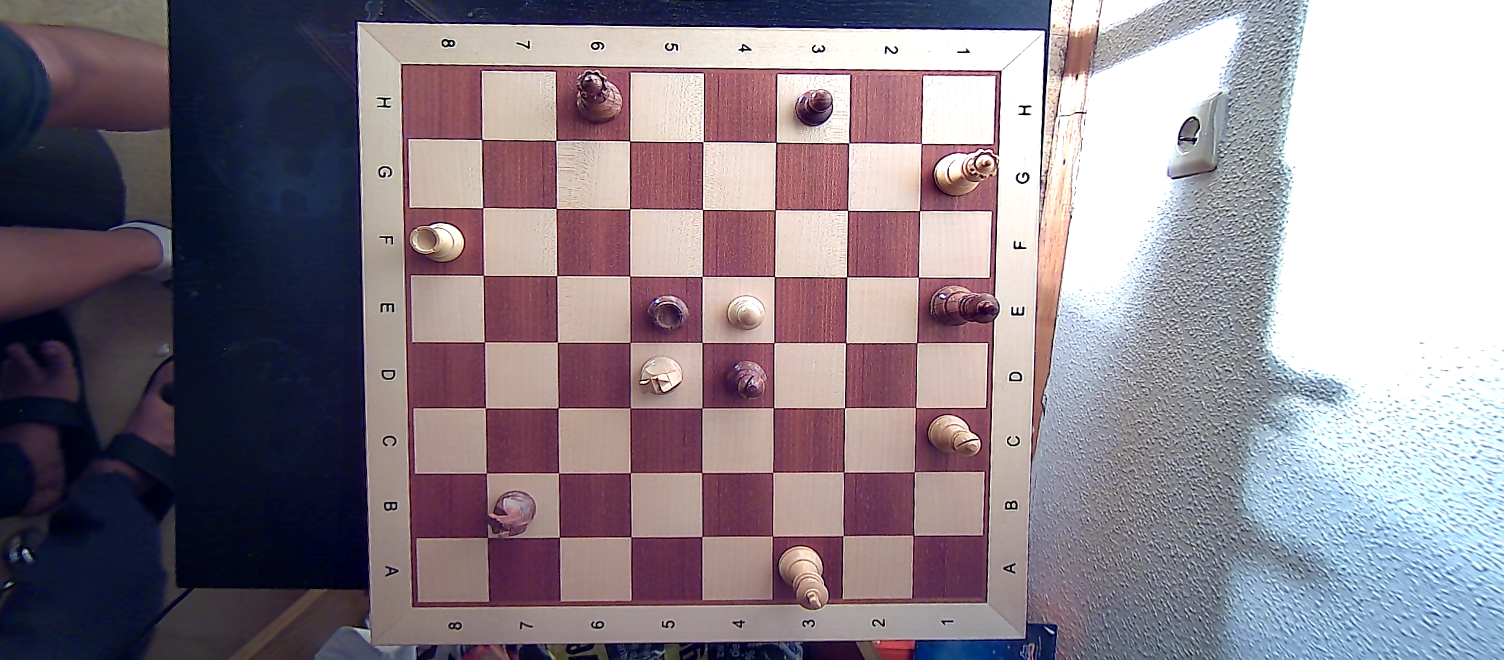black-bishop: (723, 357, 768, 401)
black-king: (925, 282, 1003, 330)
black-knight: (481, 488, 543, 542)
black-pawn: (794, 85, 838, 134)
black-queen: (569, 67, 625, 127)
black-rook: (643, 292, 693, 338)
white-bishop: (923, 411, 983, 462)
white-king: (773, 543, 831, 614)
white-knight: (634, 350, 684, 399)
white-pawn: (725, 290, 769, 339)
white-queen: (932, 146, 996, 196)
white-rook: (405, 218, 472, 269)
